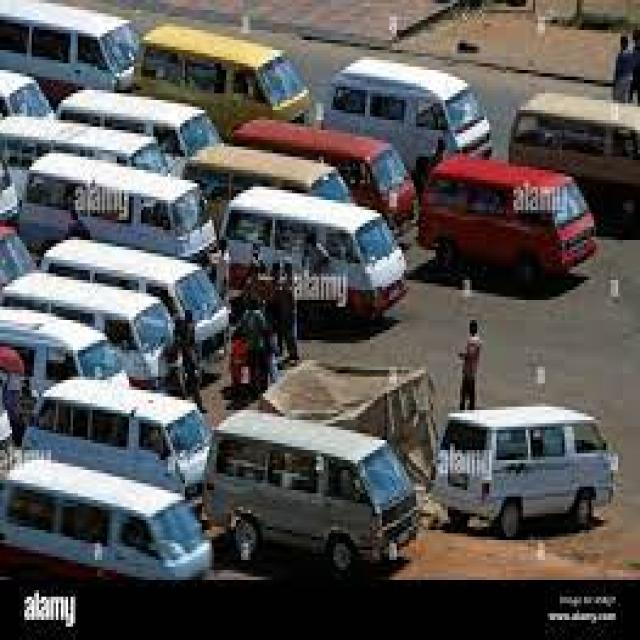MiniBus taxi: (204, 400, 418, 573), (219, 180, 409, 330), (421, 147, 606, 293), (431, 393, 618, 537), (34, 370, 222, 513), (2, 457, 216, 580), (318, 47, 492, 173)
